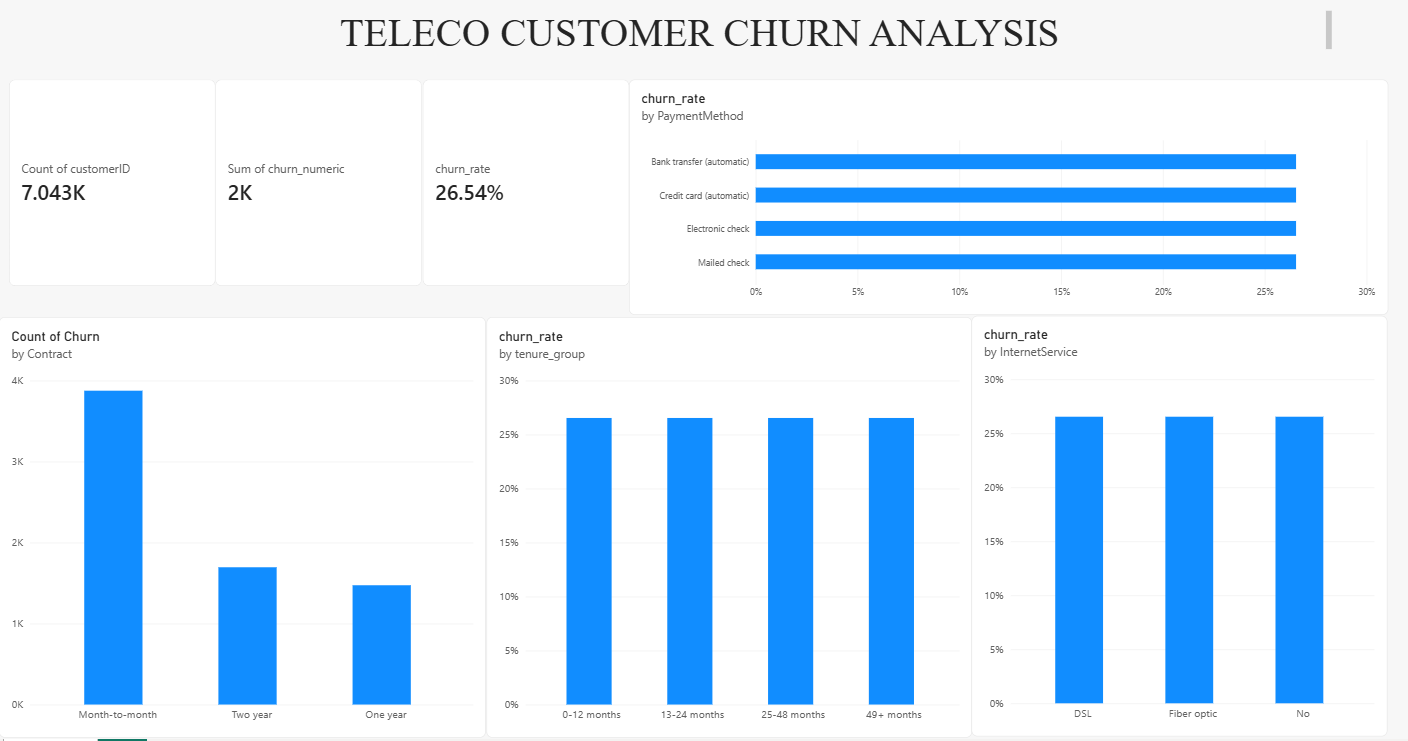

What the dashboard file says about the page in this screenshot:
{"tool":"powerbi","page":{"name":"Page 1","canvas":[1920,1080],"ordinal":0},"visuals":[{"type":"cardVisual","fields":{"Data":["Count(telco_customer_churn_cleaned.customerID)"]},"box":[13.8,139.7,280,280],"z":0},{"type":"cardVisual","fields":{"Data":["Sum(telco_customer_churn_cleaned.churn_numeric)"]},"box":[293.1,139.7,280,280],"z":1},{"type":"cardVisual","fields":{"Data":["telco_customer_churn_cleaned.churn_rate"]},"box":[574.1,139.7,280,280],"z":2},{"type":"clusteredColumnChart","fields":{"Category":["telco_customer_churn_cleaned.Contract"],"Y":["CountNonNull(telco_customer_churn_cleaned.Churn)"]},"box":[0,460.3,660.3,570.7],"z":3},{"type":"clusteredColumnChart","fields":{"Category":["telco_customer_churn_cleaned.tenure_group"],"Y":["telco_customer_churn_cleaned.churn_rate"]},"box":[660.3,460.3,658.6,570.7],"z":4},{"type":"clusteredBarChart","fields":{"Category":["telco_customer_churn_cleaned.PaymentMethod"],"Y":["telco_customer_churn_cleaned.churn_rate"]},"box":[853.4,139.7,1029.3,319],"z":5},{"type":"clusteredColumnChart","fields":{"Category":["telco_customer_churn_cleaned.InternetService"],"Y":["telco_customer_churn_cleaned.churn_rate"]},"box":[1319,458.6,563.8,570.7],"z":6},{"type":"textbox","box":[100,12.1,1706.9,98.3],"z":7}]}

Visuals, with their boxes on the page's 1920x1080 design canvas (x1, y1, x2, y2). These are canvas units, not pixel positions in the 1408x741 screenshot, which may show the page scaled, cropped or inside an application window:
cardVisual - Count(telco_customer_churn_cleaned.customerID): (14, 140, 294, 420)
cardVisual - Sum(telco_customer_churn_cleaned.churn_numeric): (293, 140, 573, 420)
cardVisual - telco_customer_churn_cleaned.churn_rate: (574, 140, 854, 420)
clusteredColumnChart - telco_customer_churn_cleaned.Contract x CountNonNull(telco_customer_churn_cleaned.Churn): (0, 460, 660, 1031)
clusteredColumnChart - telco_customer_churn_cleaned.tenure_group x telco_customer_churn_cleaned.churn_rate: (660, 460, 1319, 1031)
clusteredBarChart - telco_customer_churn_cleaned.PaymentMethod x telco_customer_churn_cleaned.churn_rate: (853, 140, 1883, 459)
clusteredColumnChart - telco_customer_churn_cleaned.InternetService x telco_customer_churn_cleaned.churn_rate: (1319, 459, 1883, 1029)
textbox: (100, 12, 1807, 110)
